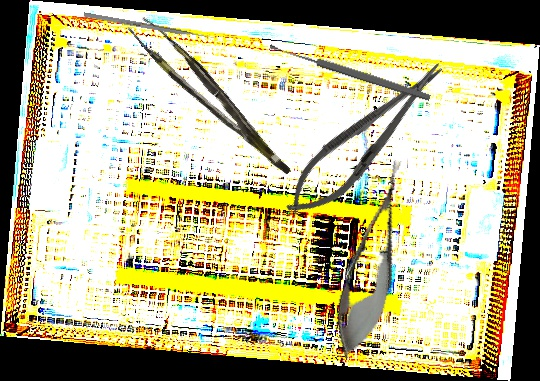Micro Scissor: (323, 154, 422, 365)
Needle Holder: (272, 48, 460, 231)
Pusher: (83, 12, 217, 41)
Surgical Spoon: (268, 41, 432, 103)
Tissue Forceps: (126, 5, 292, 193)
